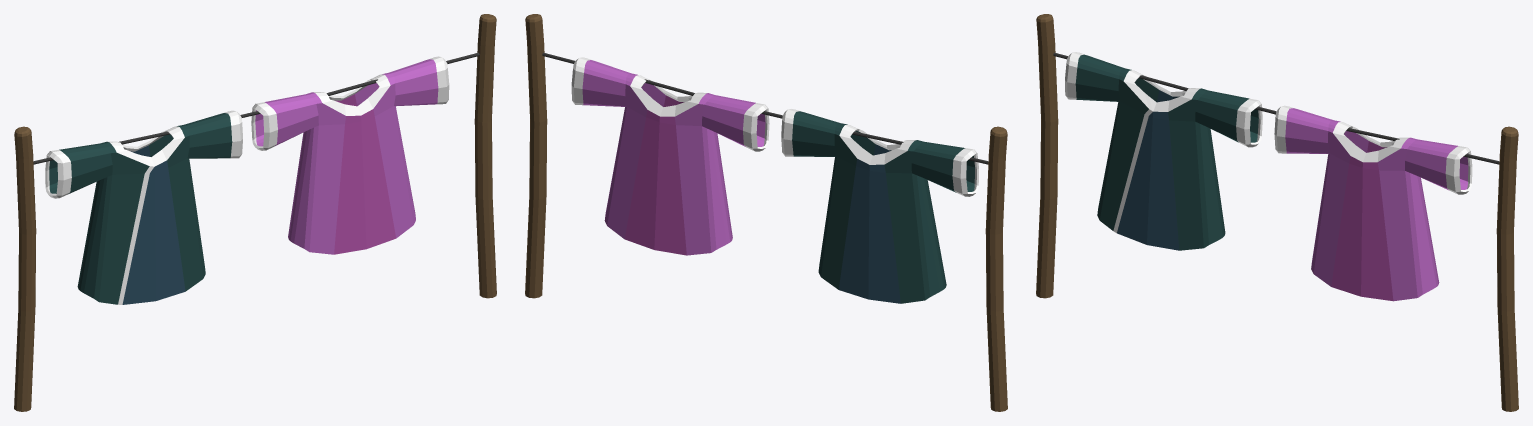
Rendered from ClotheDrier_1.fbx.
3 renders of one model, left to right at view 1: azimuth 30°, elevation 25°; view 2: azimuth 150°, elevation 25°; view 3: azimuth 330°, elevation 25°, orthographic.
Visible parts, largest first — view 1: ClotheDrier_1; view 2: ClotheDrier_1; view 3: ClotheDrier_1.
Part boxes in pixels (<box>): ClotheDrier_1: <box>14,14,496,411</box>; ClotheDrier_1: <box>525,14,1007,411</box>; ClotheDrier_1: <box>1036,14,1518,411</box>.
Size of the model in its own units: 213 by 118 by 23.31.
